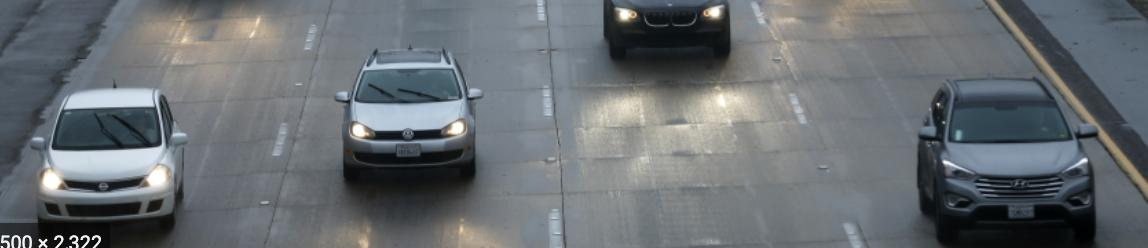car: (917, 63, 1108, 239), (33, 77, 190, 229), (333, 44, 482, 179), (597, 0, 726, 52)
